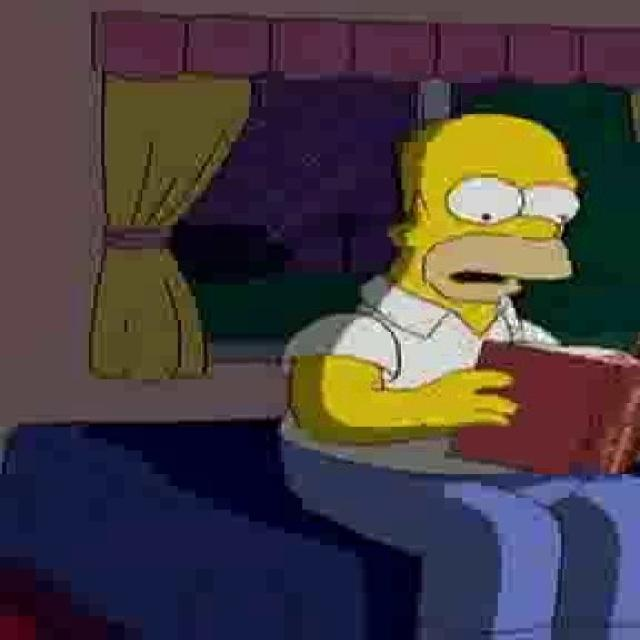Homer Simpson: (373, 107, 591, 320)
